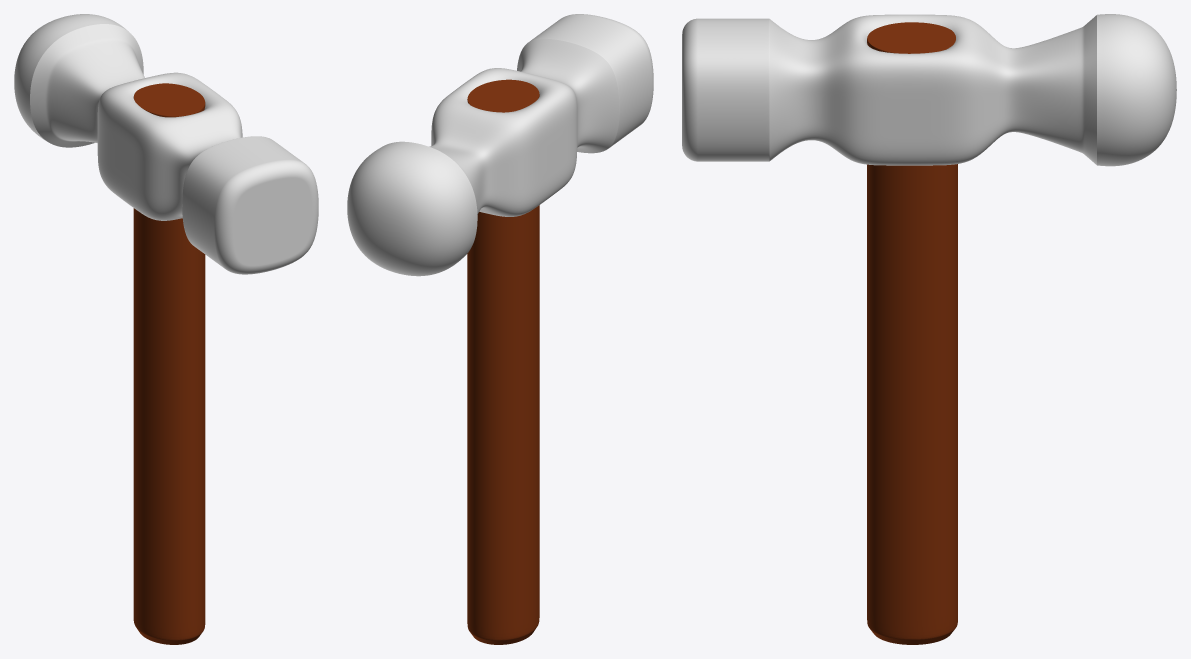
Rendered from Ball Peen Hammer.fbx.
The picture shows the model from 3 angles, left to right: view 1: azimuth 30°, elevation 25°; view 2: azimuth 150°, elevation 25°; view 3: azimuth 270°, elevation 25°; orthographic projection. The views are drawn at different scales.
Visible parts, largest first — view 1: Cube, Cylinder; view 2: Cube, Cylinder; view 3: Cube, Cylinder.
Boxes of the visible parts, x1,y1,x2,y2 form: Cube: (14, 14, 318, 274); Cylinder: (133, 83, 205, 644); Cube: (347, 14, 653, 276); Cylinder: (467, 79, 539, 644); Cube: (682, 14, 1176, 166); Cylinder: (867, 22, 957, 644).
Bounding box in the file's own units: 238 × 1079 × 795.
